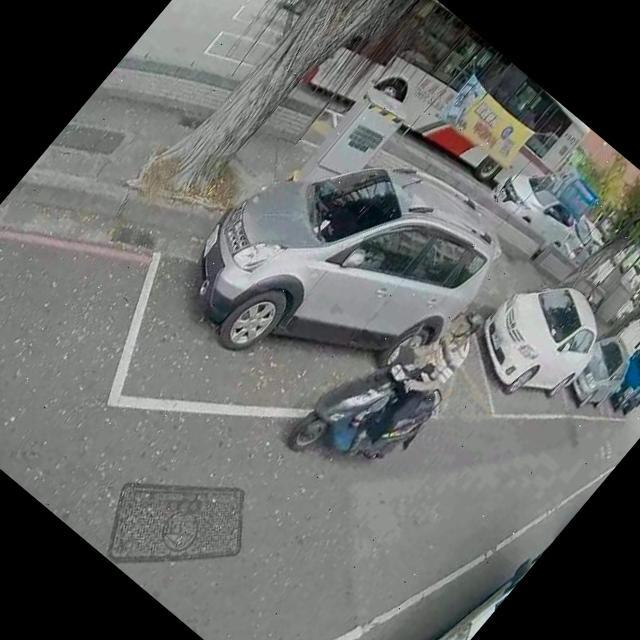person: (321, 275, 504, 472)
